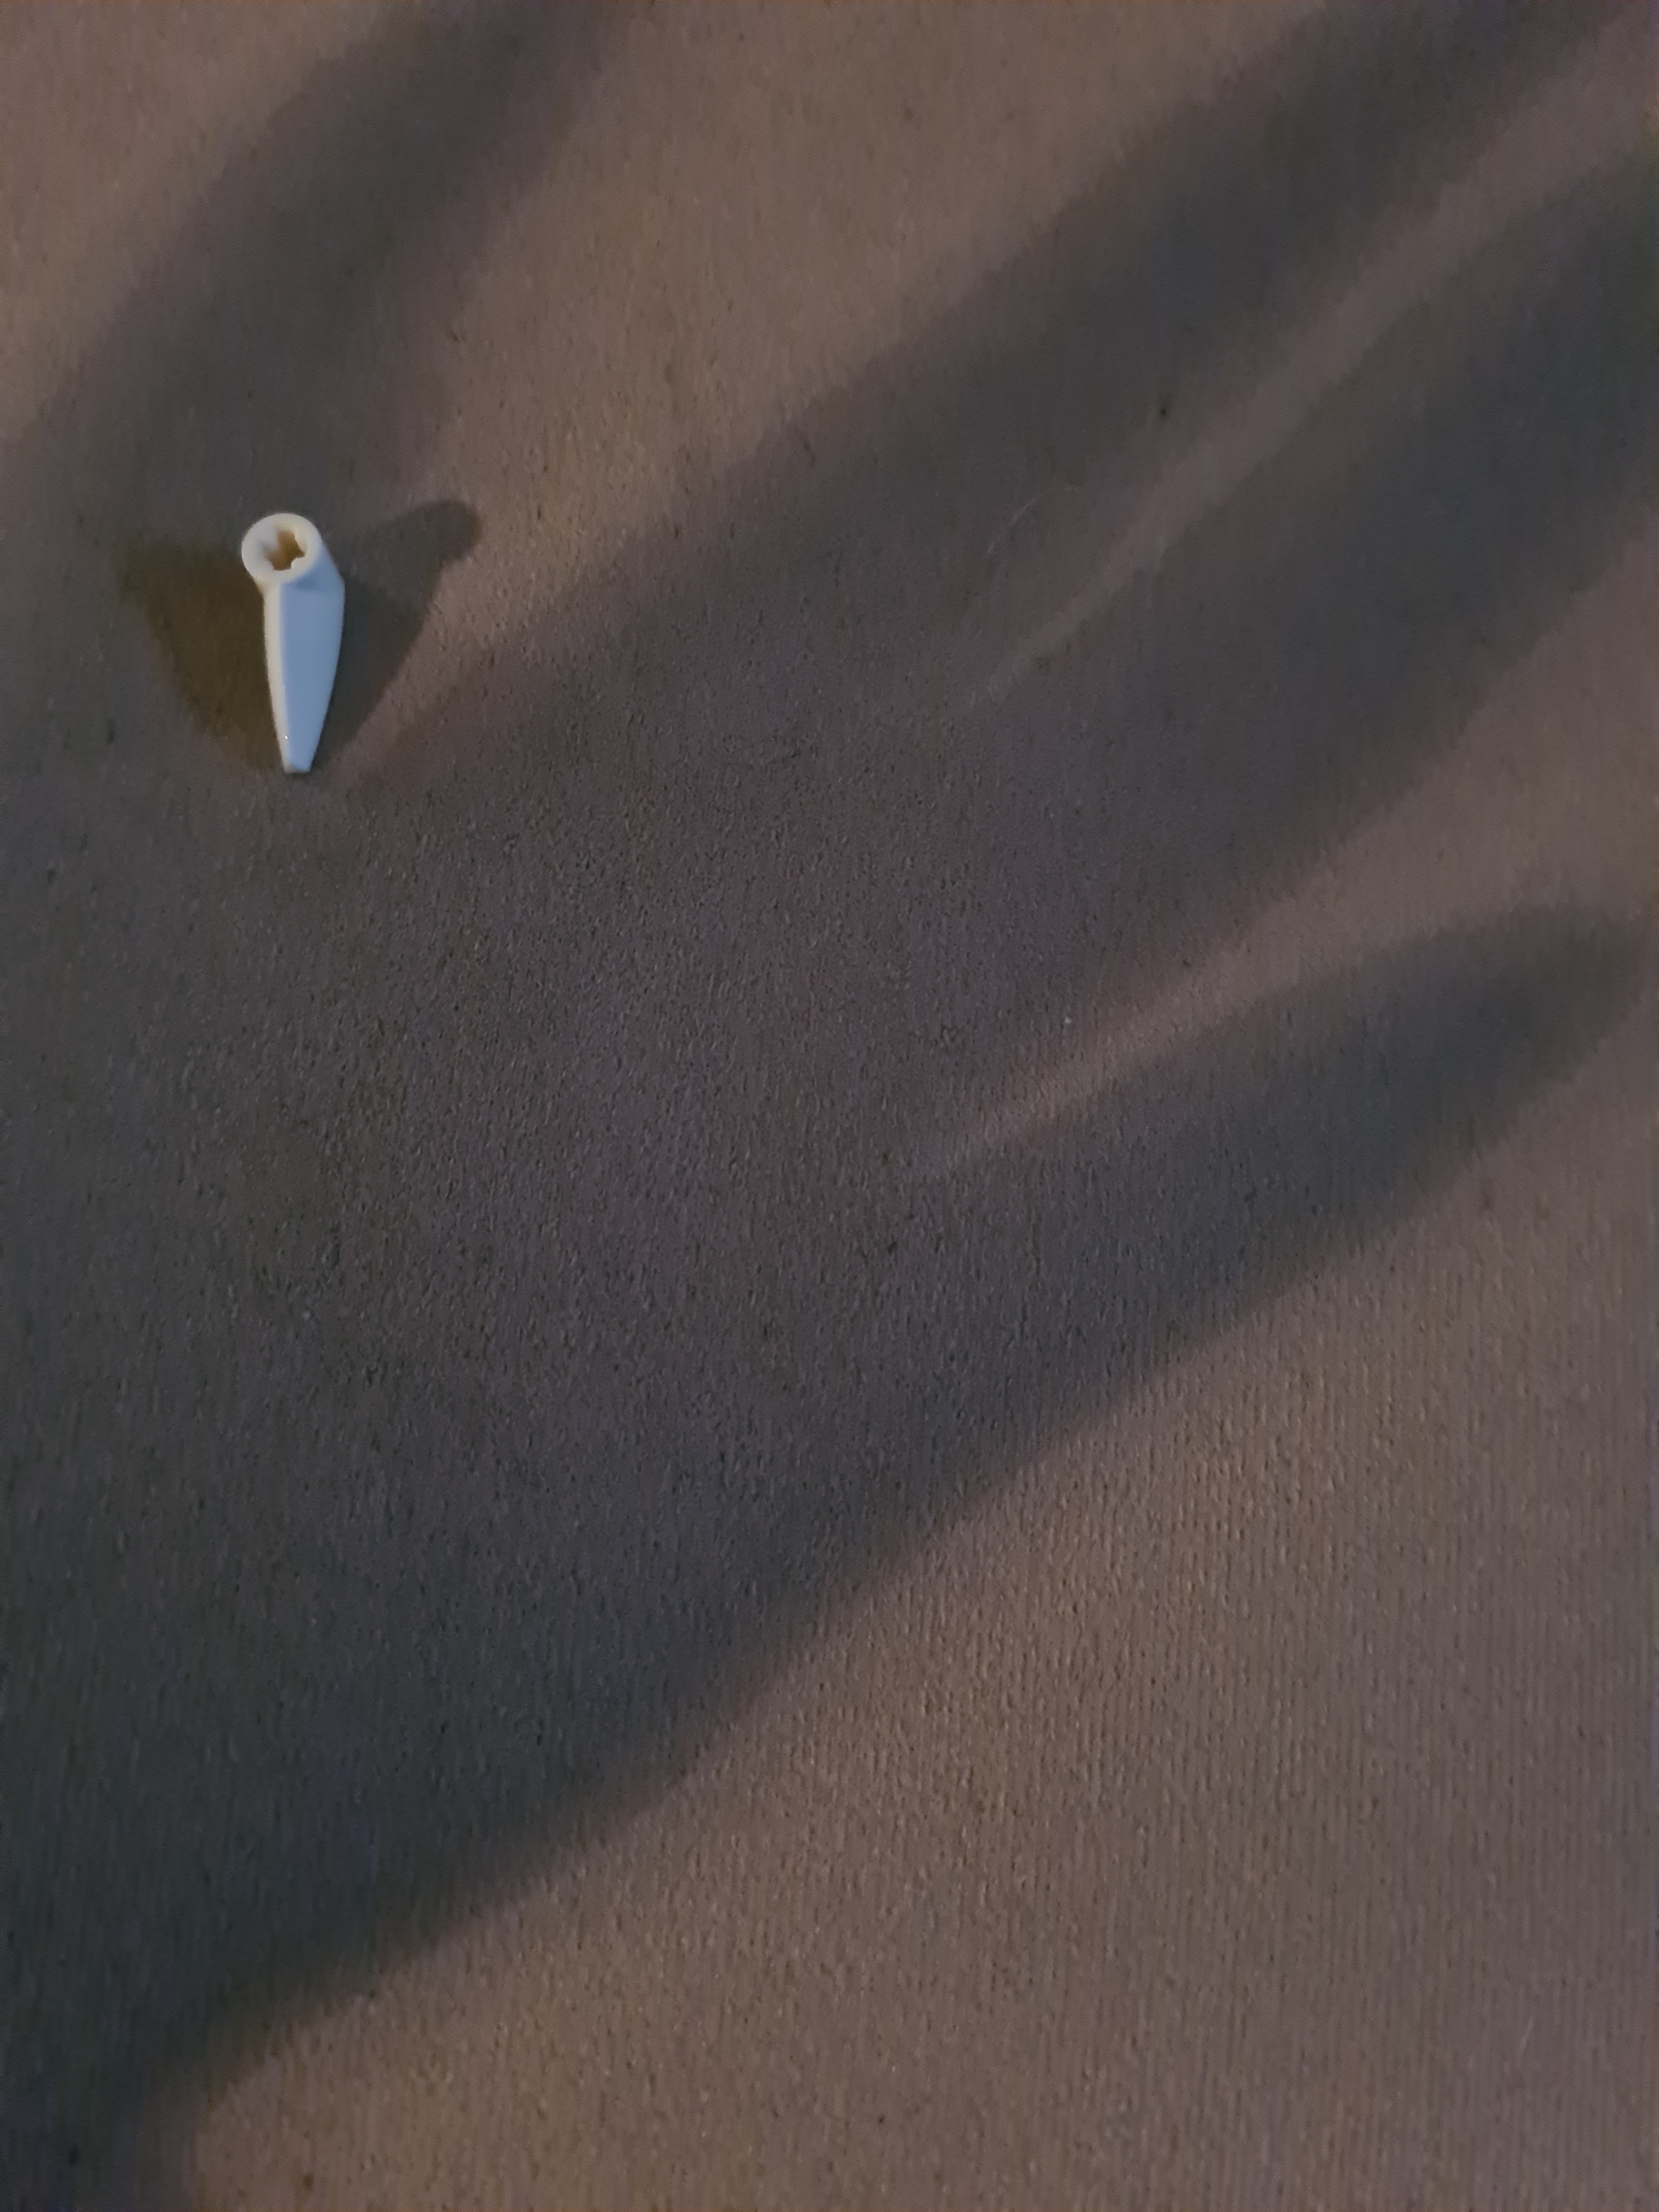Kappe: (211, 472, 375, 791)
